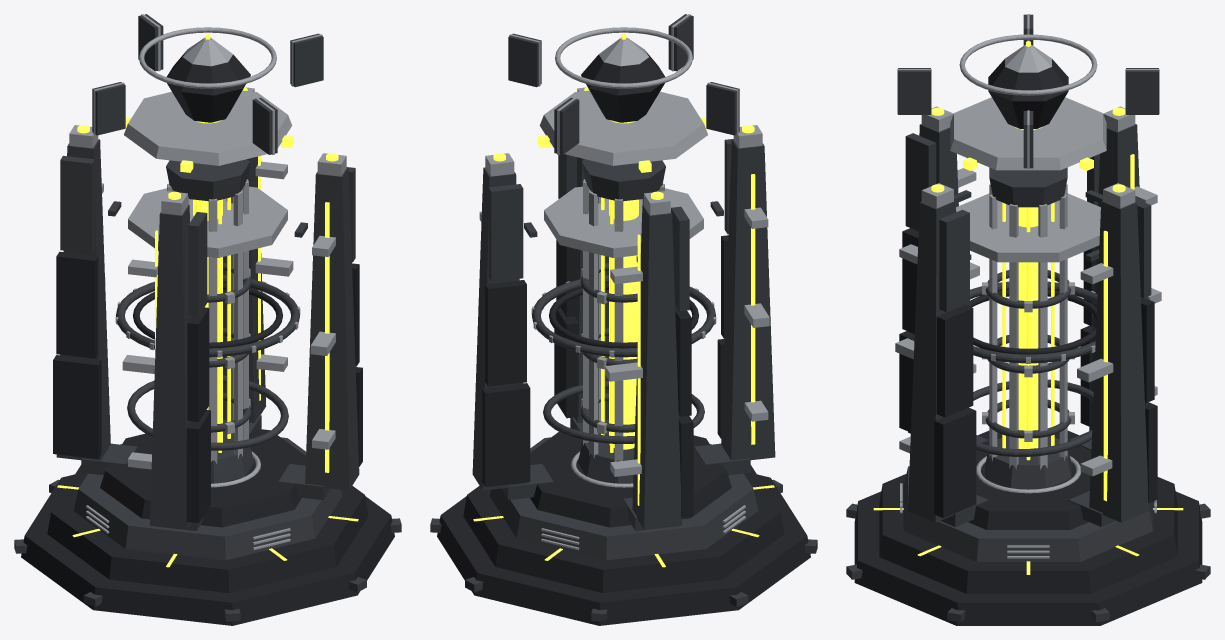
The model's file is aryaos-core.glb.
The picture shows the model from 3 angles, left to right: view 1: azimuth 30°, elevation 25°; view 2: azimuth 150°, elevation 25°; view 3: azimuth 270°, elevation 25°; orthographic projection.
Visible parts, largest first — view 1: Base_Tier_01_Foundation, Base_Tier_02_Plinth, Pylon_04_Chassis, Pylon_03_Chassis, Base_Tier_03_Dais, Base_Tier_04_Pedestal, Crown_Induction_Ring, Pylon_02_Armor_Lower, Ring_Upper_Stabilizer_Octagon, Pylon_02_Armor_Mid, Crown_Central_Processor, Pylon_02_Armor_Upper (+30 smaller); view 2: Base_Tier_01_Foundation, Base_Tier_02_Plinth, Pylon_02_Chassis, Pylon_03_Chassis, Base_Tier_03_Dais, Crown_Induction_Ring, Base_Tier_04_Pedestal, Pylon_01_Armor_Lower, Ring_Upper_Stabilizer_Octagon, Pylon_01_Armor_Mid, Crown_Central_Processor, Pylon_01_Armor_Upper (+34 smaller); view 3: Base_Tier_01_Foundation, Pylon_01_Chassis, Base_Tier_02_Plinth, Crown_Induction_Ring, Pylon_04_Chassis, Base_Tier_03_Dais, Ring_Upper_Stabilizer_Octagon, Base_Tier_04_Pedestal, Pylon_04_Armor_Lower, Pylon_04_Armor_Mid, Crown_Central_Processor, Core_Amber_Energy_Column (+36 smaller).
Part boxes in pixels (x1=…): Base_Tier_01_Foundation: x1=21, y1=474, x2=394, y2=625; Base_Tier_02_Plinth: x1=47, y1=465, x2=368, y2=592; Pylon_04_Chassis: x1=305, y1=167, x2=359, y2=490; Pylon_03_Chassis: x1=149, y1=205, x2=191, y2=529; Base_Tier_03_Dais: x1=73, y1=437, x2=342, y2=560; Base_Tier_04_Pedestal: x1=100, y1=428, x2=305, y2=527; Crown_Induction_Ring: x1=124, y1=90, x2=292, y2=165; Pylon_02_Armor_Lower: x1=53, y1=355, x2=101, y2=458; Ring_Upper_Stabilizer_Octagon: x1=128, y1=186, x2=287, y2=257; Pylon_02_Armor_Mid: x1=56, y1=251, x2=98, y2=358; Crown_Central_Processor: x1=166, y1=49, x2=250, y2=122; Pylon_02_Armor_Upper: x1=60, y1=155, x2=94, y2=253; Base_Tier_01_Foundation: x1=437, y1=474, x2=810, y2=625; Base_Tier_02_Plinth: x1=463, y1=465, x2=784, y2=592; Pylon_02_Chassis: x1=632, y1=205, x2=682, y2=529; Pylon_03_Chassis: x1=721, y1=139, x2=775, y2=460; Base_Tier_03_Dais: x1=489, y1=437, x2=758, y2=560; Crown_Induction_Ring: x1=539, y1=90, x2=707, y2=165; Base_Tier_04_Pedestal: x1=530, y1=428, x2=731, y2=527; Pylon_01_Armor_Lower: x1=482, y1=383, x2=530, y2=487; Ring_Upper_Stabilizer_Octagon: x1=544, y1=186, x2=703, y2=257; Pylon_01_Armor_Mid: x1=485, y1=280, x2=526, y2=386; Crown_Central_Processor: x1=581, y1=49, x2=665, y2=122; Pylon_01_Armor_Upper: x1=488, y1=184, x2=523, y2=281; Base_Tier_01_Foundation: x1=854, y1=491, x2=1202, y2=625; Pylon_01_Chassis: x1=1089, y1=200, x2=1148, y2=522; Base_Tier_02_Plinth: x1=879, y1=474, x2=1177, y2=593; Crown_Induction_Ring: x1=950, y1=97, x2=1106, y2=170; Pylon_04_Chassis: x1=908, y1=200, x2=956, y2=522; Base_Tier_03_Dais: x1=903, y1=466, x2=1153, y2=561; Ring_Upper_Stabilizer_Octagon: x1=956, y1=193, x2=1100, y2=262; Base_Tier_04_Pedestal: x1=968, y1=430, x2=1091, y2=529; Pylon_04_Armor_Lower: x1=934, y1=407, x2=976, y2=518; Pylon_04_Armor_Mid: x1=936, y1=304, x2=973, y2=417; Crown_Central_Processor: x1=988, y1=59, x2=1068, y2=128; Core_Amber_Energy_Column: x1=1018, y1=207, x2=1038, y2=448.
Size of the model in its own units: 2.29 by 3.54 by 2.29.
